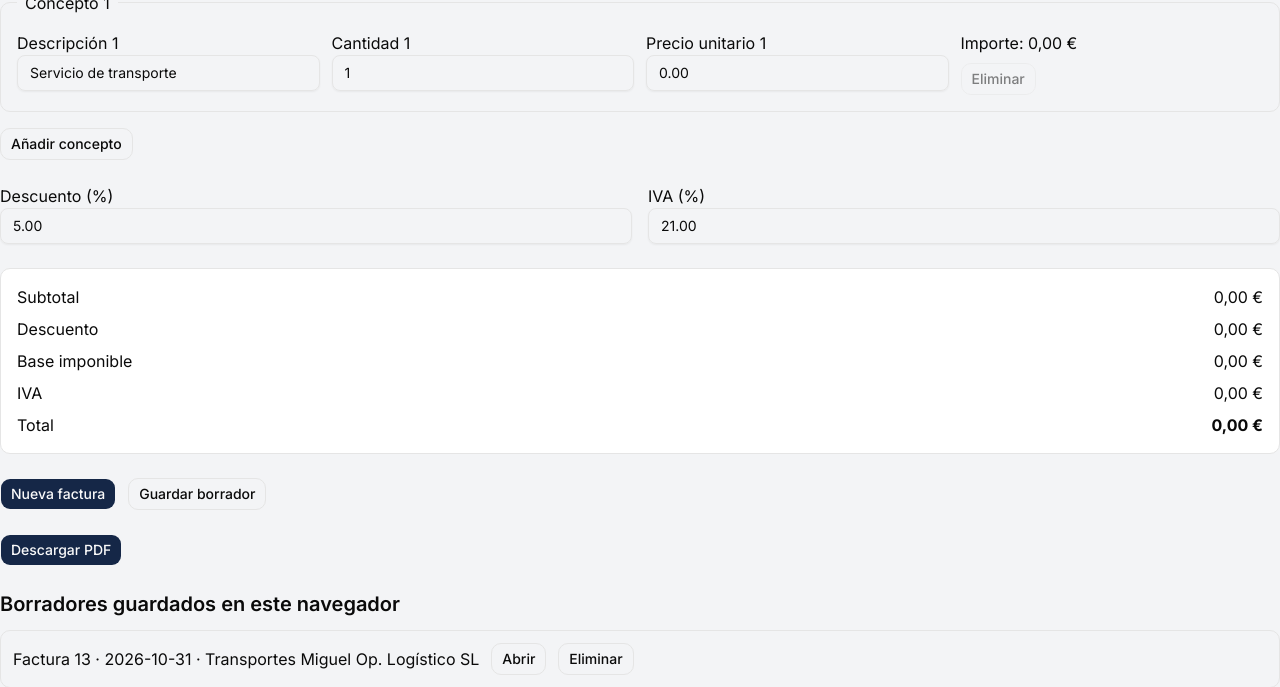
Test: Editor de facturas › muestra validación sin consumir número ni enviar PDF
(page scrolled)
Click the button with aria-label "Abrir factura 13" at x=519, y=659, box [491,643,546,675]
(page scrolled)
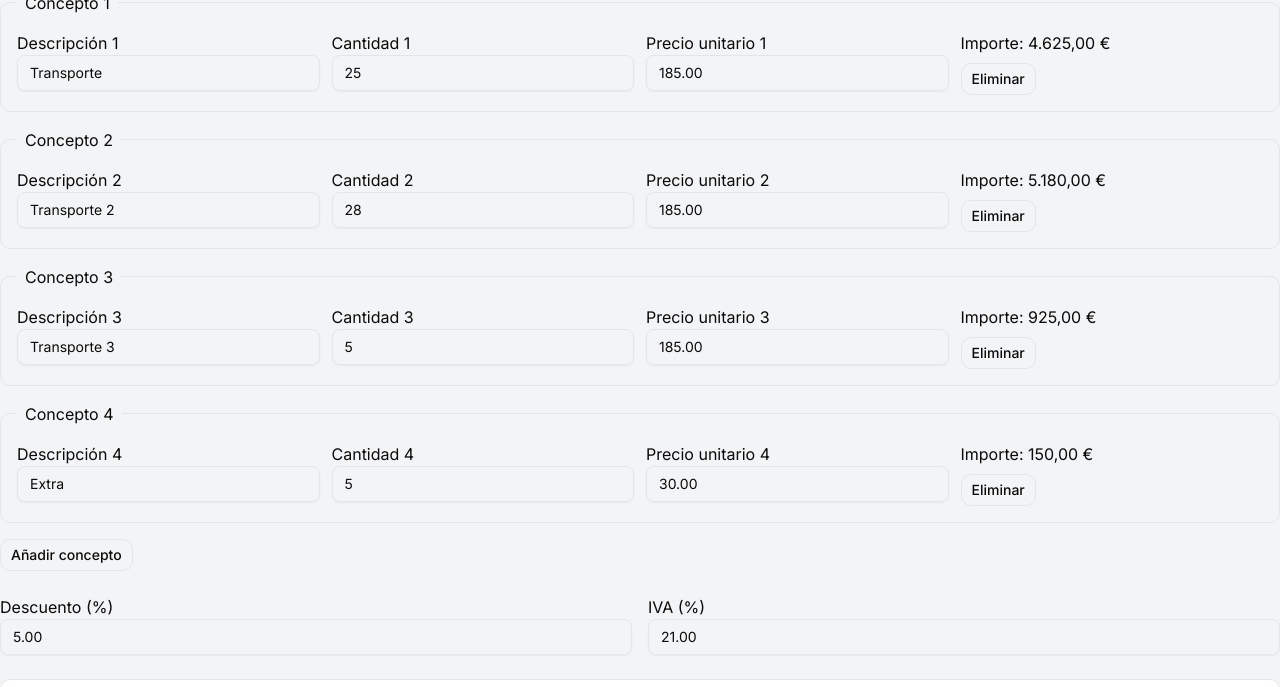
Replace the text in the field labelled "Cantidad 1" with "-1" at x=483, y=73, box [332,55,634,91]
(page scrolled)
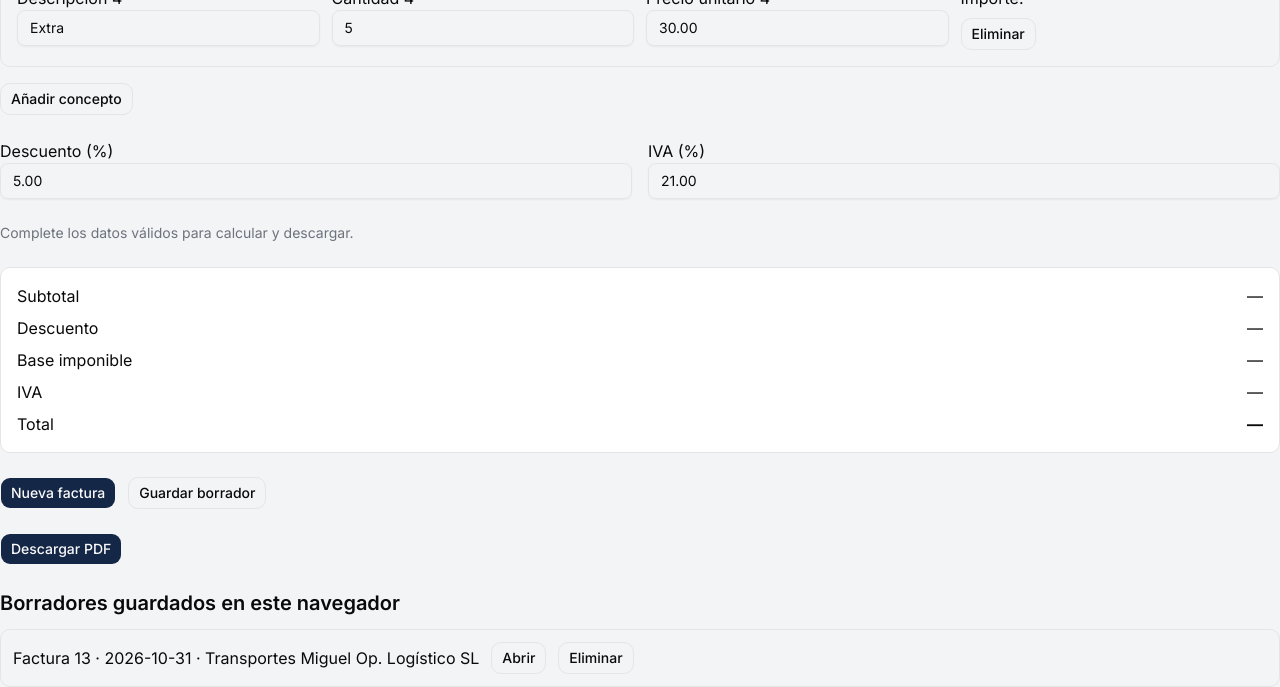
Click the button "Descargar PDF" at x=61, y=549, box [0,533,122,565]
(page scrolled)
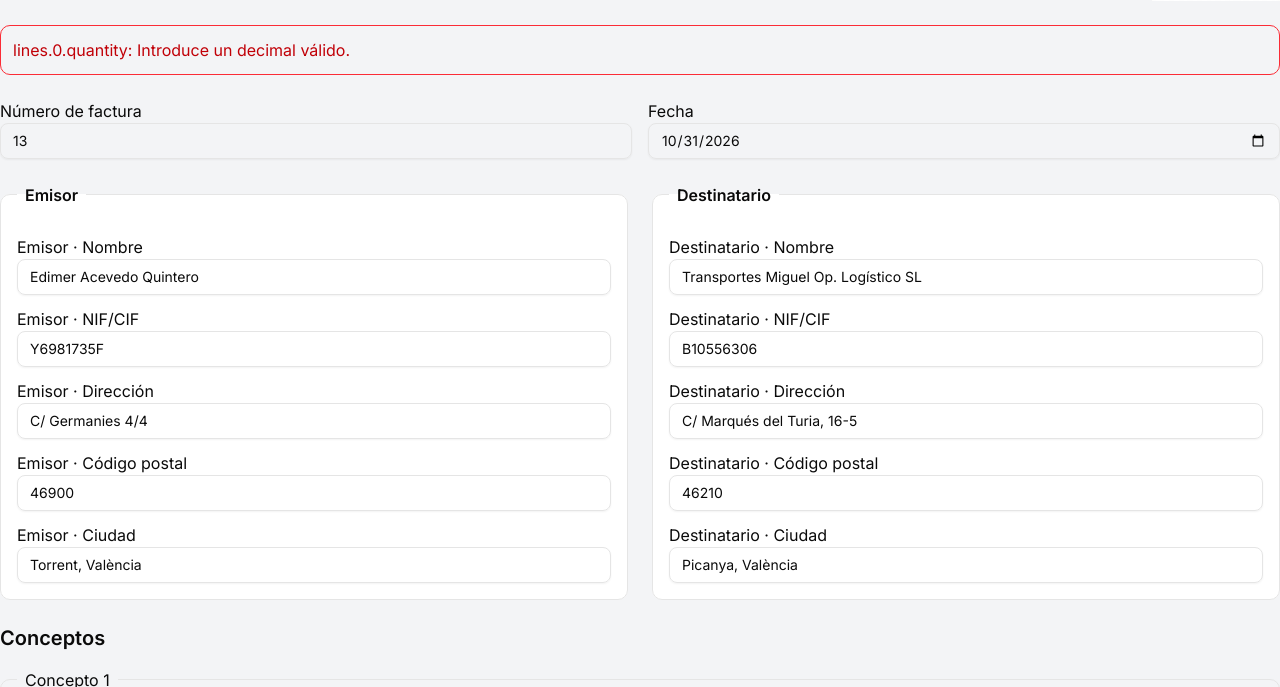
Now the message "lines.0.quantity: Introduce un decimal válido." is shown, box [0,25,1279,75]
